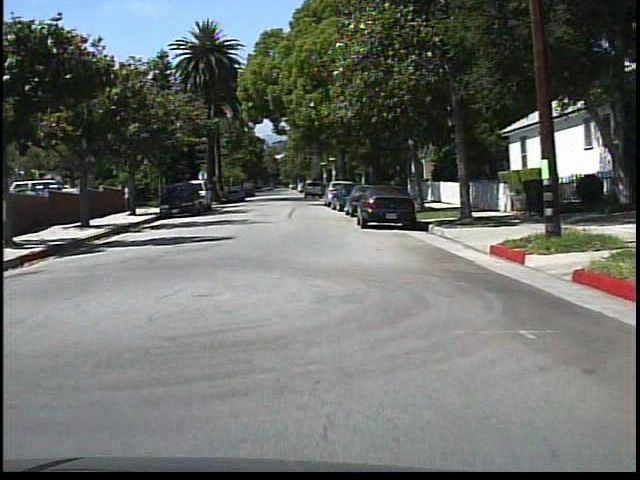person: (121, 180, 137, 216)
